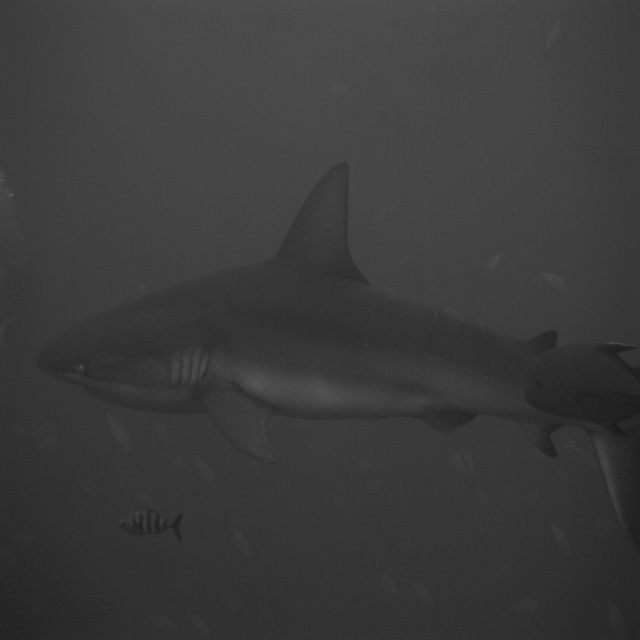Shark: (35, 163, 640, 465)
